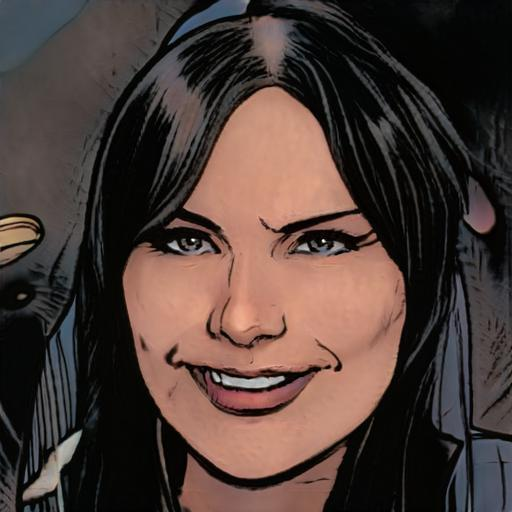NoHuman: (0, 0, 504, 512)
